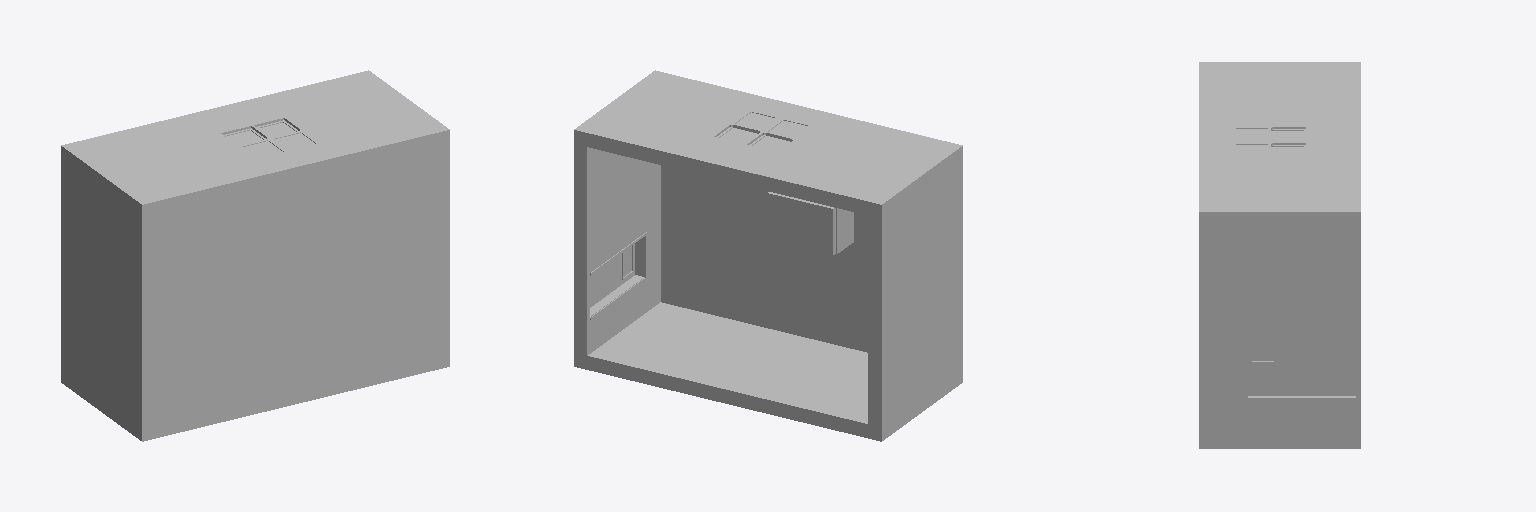
The model's file is Room.obj.
The picture shows the model from 3 angles: view 1: azimuth 30°, elevation 25°; view 2: azimuth 150°, elevation 25°; view 3: azimuth 270°, elevation 25°; orthographic projection.
Visible parts, largest first — view 1: STRUCTURAL_-_BEARING PAINT_-_GOLDEN_OCHRE, STRUCTURAL_-_BEARING PAINT_-_LIGHT_GRAY, STRUCTURAL_-_BEARING GLASS_-_CLEAR_FAST, STRUCTURAL_-_BEARING WOOD_-_PINE_GRAINED_HORIZONTAL; view 2: STRUCTURAL_-_BEARING PAINT_-_LIGHT_GRAY, STRUCTURAL_-_BEARING STUCCO_-_WHITE_FINE, INTERIOR_-_FURNITURE_ METAL_-_STAINLESS_STEEL, STRUCTURAL_-_BEARING PAINT_-_SAND_BEIGE, STRUCTURAL_-_BEARING GLASS_-_CLEAR_FAST, STRUCTURAL_-_BEARING PAINT_-_GOLDEN_OCHRE, STRUCTURAL_-_BEARING METAL_-_IRON, STRUCTURAL_-_BEARING METAL_-_ALUMINIUM, STRUCTURAL_-_BEARING WOOD_-_PINE_GRAINED_HORIZONTAL, INTERIOR_-_FURNITURE_ WOOD_-_PINE_GRAINED_HORIZONTAL; view 3: STRUCTURAL_-_BEARING PAINT_-_LIGHT_GRAY, STRUCTURAL_-_BEARING METAL_-_ALUMINIUM, STRUCTURAL_-_BEARING GLASS_-_CLEAR_FAST, STRUCTURAL_-_BEARING PAINT_-_GOLDEN_OCHRE, STRUCTURAL_-_BEARING METAL_-_IRON, STRUCTURAL_-_BEARING WOOD_-_PINE_GRAINED_HORIZONTAL.
Boxes of the visible parts, <box> form: STRUCTURAL_-_BEARING PAINT_-_GOLDEN_OCHRE: <box>139,128,449,441</box>; STRUCTURAL_-_BEARING PAINT_-_LIGHT_GRAY: <box>61,70,446,438</box>; STRUCTURAL_-_BEARING GLASS_-_CLEAR_FAST: <box>226,123,315,158</box>; STRUCTURAL_-_BEARING WOOD_-_PINE_GRAINED_HORIZONTAL: <box>218,116,323,161</box>; STRUCTURAL_-_BEARING PAINT_-_LIGHT_GRAY: <box>574,72,959,441</box>; STRUCTURAL_-_BEARING STUCCO_-_WHITE_FINE: <box>587,147,867,423</box>; INTERIOR_-_FURNITURE_ METAL_-_STAINLESS_STEEL: <box>767,192,835,254</box>; STRUCTURAL_-_BEARING PAINT_-_SAND_BEIGE: <box>585,144,870,426</box>; STRUCTURAL_-_BEARING GLASS_-_CLEAR_FAST: <box>623,112,808,276</box>; STRUCTURAL_-_BEARING PAINT_-_GOLDEN_OCHRE: <box>653,70,962,383</box>; STRUCTURAL_-_BEARING METAL_-_IRON: <box>590,232,646,319</box>; STRUCTURAL_-_BEARING METAL_-_ALUMINIUM: <box>590,244,634,307</box>; STRUCTURAL_-_BEARING WOOD_-_PINE_GRAINED_HORIZONTAL: <box>710,109,816,153</box>; INTERIOR_-_FURNITURE_ WOOD_-_PINE_GRAINED_HORIZONTAL: <box>836,208,853,254</box>; STRUCTURAL_-_BEARING PAINT_-_LIGHT_GRAY: <box>1204,62,1360,448</box>; STRUCTURAL_-_BEARING METAL_-_ALUMINIUM: <box>1248,358,1355,395</box>; STRUCTURAL_-_BEARING GLASS_-_CLEAR_FAST: <box>1236,129,1303,390</box>; STRUCTURAL_-_BEARING PAINT_-_GOLDEN_OCHRE: <box>1199,62,1203,448</box>; STRUCTURAL_-_BEARING METAL_-_IRON: <box>1244,355,1355,401</box>; STRUCTURAL_-_BEARING WOOD_-_PINE_GRAINED_HORIZONTAL: <box>1230,126,1308,158</box>.
Size of the model in its own units: 6819 by 5000 by 3100.